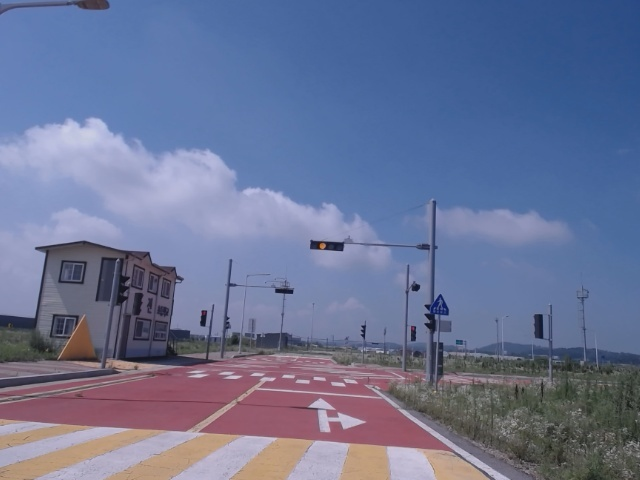orange_4: (310, 242, 346, 250)
